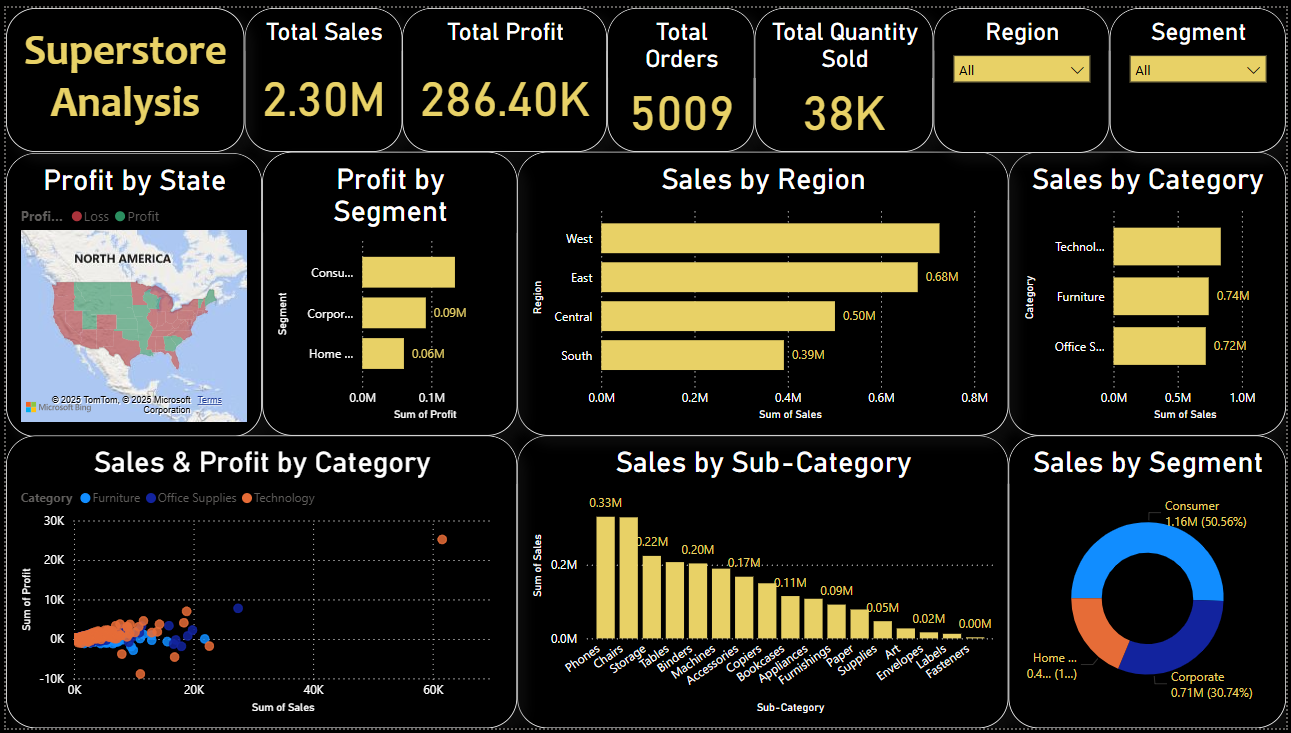

What the dashboard file says about the page in this screenshot:
{"tool":"powerbi","page":{"name":"Page 1","canvas":[1280,720],"ordinal":0},"visuals":[{"type":"card","title":"Total Sales","fields":{"Values":["Sum(Superstore.Sales)"]},"box":[238.8,0,157.5,143.8],"z":0},{"type":"card","title":"Total Profit","fields":{"Values":["Sum(Superstore.Profit)"]},"box":[396.2,0,205,143.8],"z":1000},{"type":"card","title":"Total Orders","fields":{"Values":["Count(Superstore.Order ID)"]},"box":[601.2,0,147.5,143.8],"z":2000},{"type":"card","title":"Total Quantity Sold","fields":{"Values":["Sum(Superstore.Quantity)"]},"box":[748.8,0,178.8,143.8],"z":3000},{"type":"barChart","title":"Sales by Category","fields":{"Y":["Sum(Superstore.Sales)"],"Category":["Superstore.Category"]},"box":[1002.5,143.8,277.5,283.8],"z":4000},{"type":"clusteredColumnChart","title":"Sales by Sub-Category","fields":{"Category":["Superstore.Sub-Category"],"Y":["Sum(Superstore.Sales)"]},"box":[511.2,427.5,491.2,292.5],"z":5000},{"type":"filledMap","title":"Profit by State","fields":{"Category":["Superstore.State"],"Series":["Superstore.Profit/Loss"]},"box":[0,145,256.2,283.8],"z":6000},{"type":"barChart","title":"Sales by Region","fields":{"Category":["Superstore.Region"],"Y":["Sum(Superstore.Sales)"]},"box":[511.2,143.8,491.2,283.8],"z":7000},{"type":"slicer","title":"Region","fields":{"Values":["Superstore.Region"]},"box":[927.5,0,176.2,145],"z":8000},{"type":"donutChart","title":"Sales by Segment","fields":{"Category":["Superstore.Segment"],"Y":["Sum(Superstore.Sales)"]},"box":[1002.5,427.5,277.5,292.5],"z":9000},{"type":"barChart","title":"Profit by Segment","fields":{"Category":["Superstore.Segment"],"Y":["Sum(Superstore.Profit)"]},"box":[256.2,143.8,255,283.8],"z":10000},{"type":"slicer","title":"Segment","fields":{"Values":["Superstore.Segment"]},"box":[1103.8,0,176.2,145],"z":11000},{"type":"scatterChart","title":"Sales & Profit by Category","fields":{"Series":["Superstore.Category"],"Y":["Sum(Superstore.Profit)"],"X":["Sum(Superstore.Sales)"],"Category":["Superstore.Product Name"]},"box":[0,427.5,511.2,292.5],"z":12000},{"type":"textbox","box":[0,0,238.8,143.8],"z":13000}]}

Visuals, with their boxes in screenshot pixels (x1, y1, x2, y2), scaled from the page's 1280x720 canvas onto the 1291x733 screenshot:
"Total Sales" card: x1=241, y1=0, x2=400, y2=146
"Total Profit" card: x1=400, y1=0, x2=606, y2=146
"Total Orders" card: x1=606, y1=0, x2=755, y2=146
"Total Quantity Sold" card: x1=755, y1=0, x2=936, y2=146
"Sales by Category" barChart: x1=1011, y1=146, x2=1290, y2=435
"Sales by Sub-Category" clusteredColumnChart: x1=516, y1=435, x2=1011, y2=732
"Profit by State" filledMap: x1=0, y1=148, x2=258, y2=437
"Sales by Region" barChart: x1=516, y1=146, x2=1011, y2=435
"Region" slicer: x1=935, y1=0, x2=1113, y2=148
"Sales by Segment" donutChart: x1=1011, y1=435, x2=1290, y2=732
"Profit by Segment" barChart: x1=258, y1=146, x2=516, y2=435
"Segment" slicer: x1=1113, y1=0, x2=1290, y2=148
"Sales & Profit by Category" scatterChart: x1=0, y1=435, x2=516, y2=732
textbox: x1=0, y1=0, x2=241, y2=146
